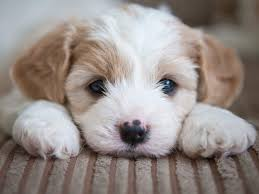dog: (4, 2, 253, 161)
